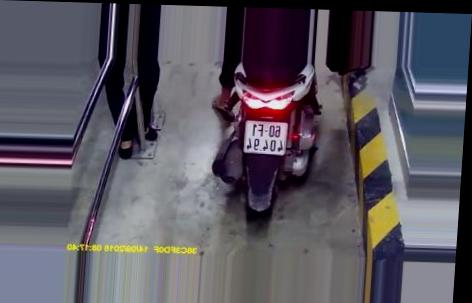License_Plate: (239, 117, 294, 156)
